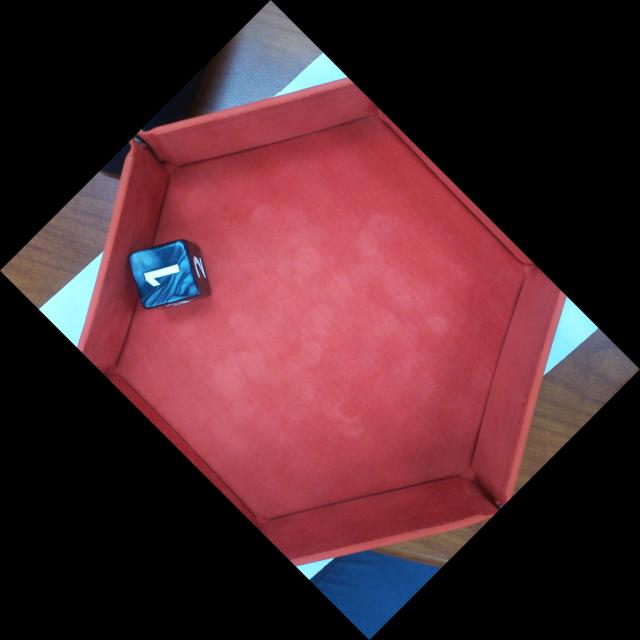dice: (130, 241, 199, 308)
